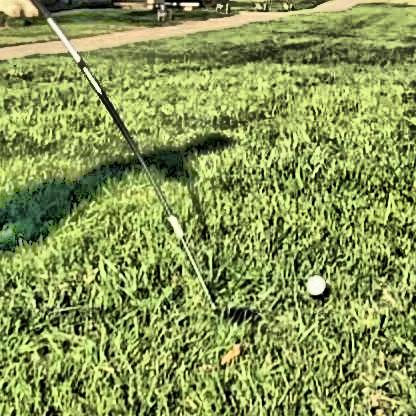golfball: (303, 271, 324, 292)
